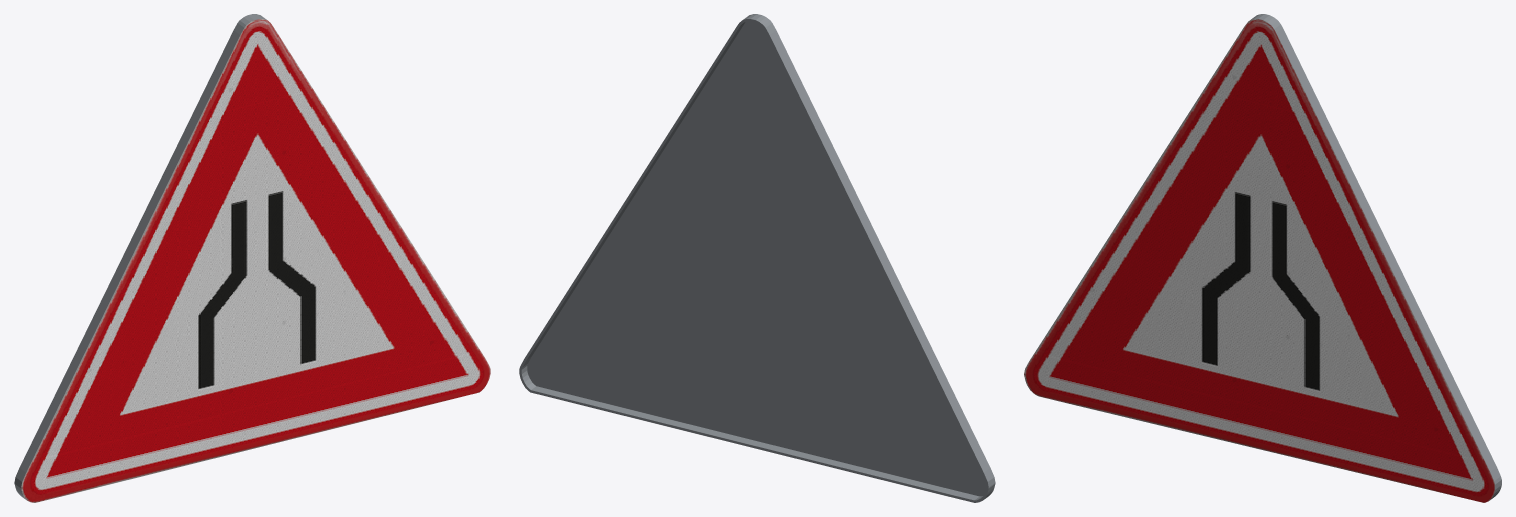
3 renders of one model, left to right at view 1: azimuth 30°, elevation 25°; view 2: azimuth 150°, elevation 25°; view 3: azimuth 330°, elevation 25°, orthographic.
Parts seen in each view (by area): view 1: cat_57dcc02b7b68c4f0; view 2: cat_57dcc02b7b68c4f0; view 3: cat_57dcc02b7b68c4f0.
Part boxes in pixels (x1=…): cat_57dcc02b7b68c4f0: x1=14, y1=14, x2=490, y2=502; cat_57dcc02b7b68c4f0: x1=519, y1=14, x2=995, y2=502; cat_57dcc02b7b68c4f0: x1=1024, y1=14, x2=1501, y2=502.
Bounding box in the file's own units: 0.6 × 0.015 × 0.5245.
Materials: 2 (1 with a texture image).
